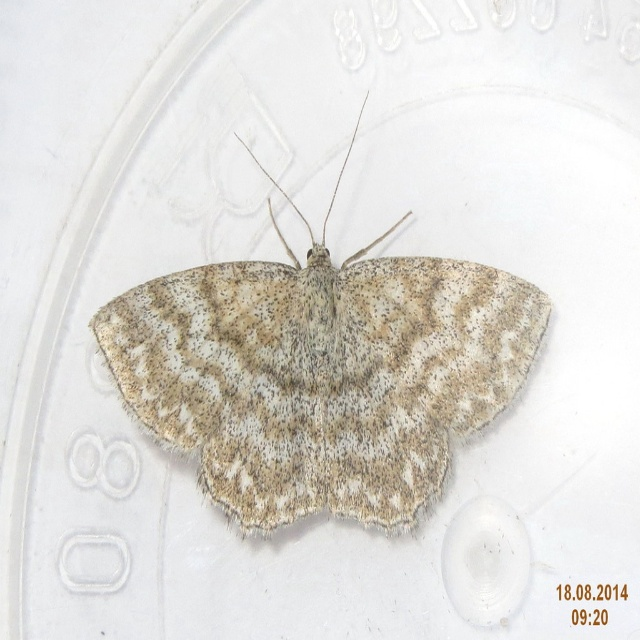Butterfly: (99, 100, 540, 565)
